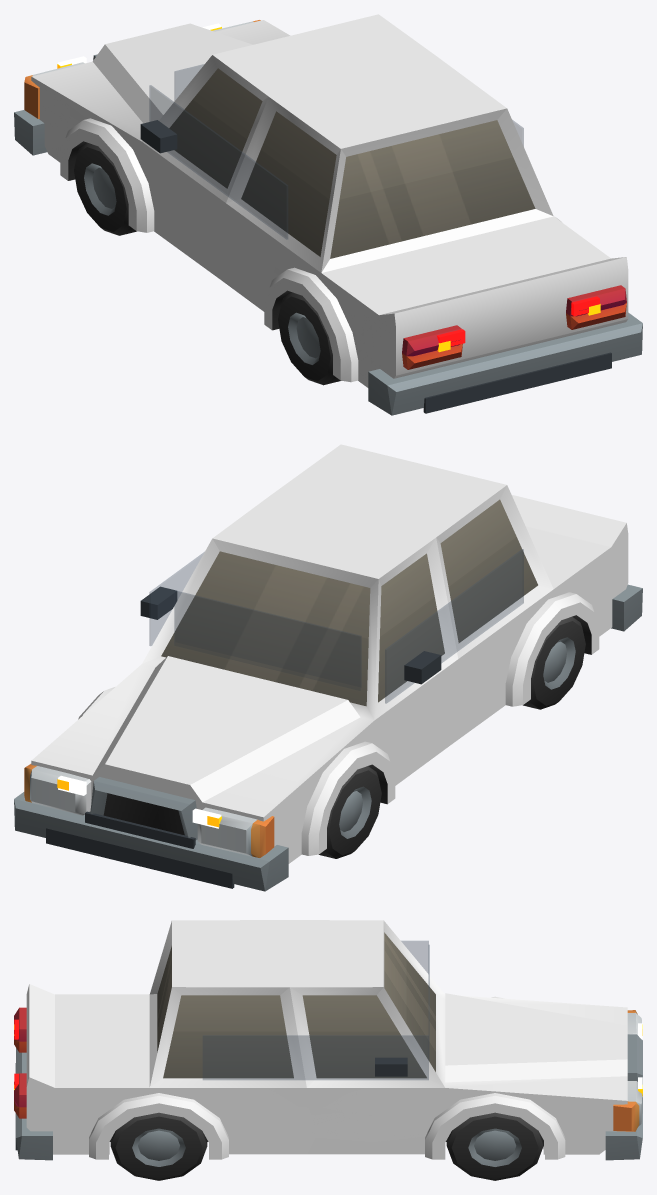
The model's file is traffic-compact.glb.
3 views of the same model, one above another, from view 1: azimuth 30°, elevation 25°; view 2: azimuth 150°, elevation 25°; view 3: azimuth 270°, elevation 25° (orthographic). The views are drawn at different scales.
Visible parts, largest first — view 1: BODY, GLASS_LEFT, WHEEL_RL_MESH, WHEEL_FL_MESH, BUMPER_REAR, MIRROR_L; view 2: BODY, GLASS_FRONT, GLASS_LEFT, WHEEL_RL_MESH, WHEEL_FL_MESH, BUMPER_FRONT, GLASS_RIGHT, GRILLE, MIRROR_L, MIRROR_R; view 3: BODY, GLASS_RIGHT, WHEEL_FR_MESH, WHEEL_RR_MESH, MIRROR_R, GLASS_LEFT.
Boxes of the visible parts, x1,y1,x2,y2 form: BODY: [14, 14, 642, 415]; GLASS_LEFT: [149, 85, 287, 239]; WHEEL_RL_MESH: [278, 292, 341, 385]; WHEEL_FL_MESH: [74, 143, 136, 235]; BUMPER_REAR: [423, 352, 611, 413]; MIRROR_L: [140, 120, 177, 153]; BODY: [14, 444, 642, 891]; GLASS_FRONT: [174, 590, 361, 690]; GLASS_LEFT: [385, 549, 523, 703]; WHEEL_RL_MESH: [523, 616, 585, 709]; WHEEL_FL_MESH: [319, 766, 381, 858]; BUMPER_FRONT: [46, 828, 234, 888]; GLASS_RIGHT: [149, 552, 204, 645]; GRILLE: [85, 811, 195, 848]; MIRROR_L: [404, 651, 441, 684]; MIRROR_R: [140, 586, 176, 619]; BODY: [14, 920, 642, 1160]; GLASS_RIGHT: [203, 1035, 428, 1079]; WHEEL_FR_MESH: [446, 1112, 543, 1180]; WHEEL_RR_MESH: [110, 1112, 207, 1180]; MIRROR_R: [375, 1057, 407, 1076]; GLASS_LEFT: [401, 941, 428, 973].
Bounding box in the file's own units: 1.98 × 1.45 × 4.65.
7 materials, 1 textured.
